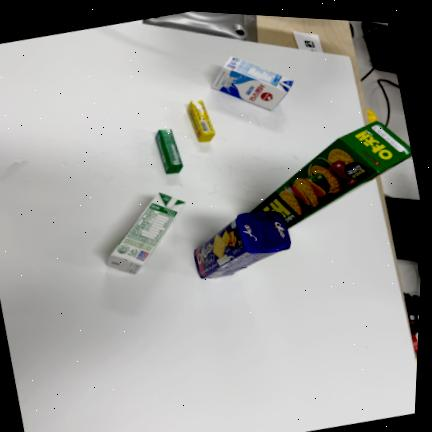cracker_ace: (195, 212, 291, 279)
cracker_vege: (251, 121, 411, 229)
gum_green: (156, 129, 183, 174)
gum_yellow: (187, 100, 215, 142)
milk_blue: (212, 56, 294, 110)
milk_green: (107, 193, 185, 274)
